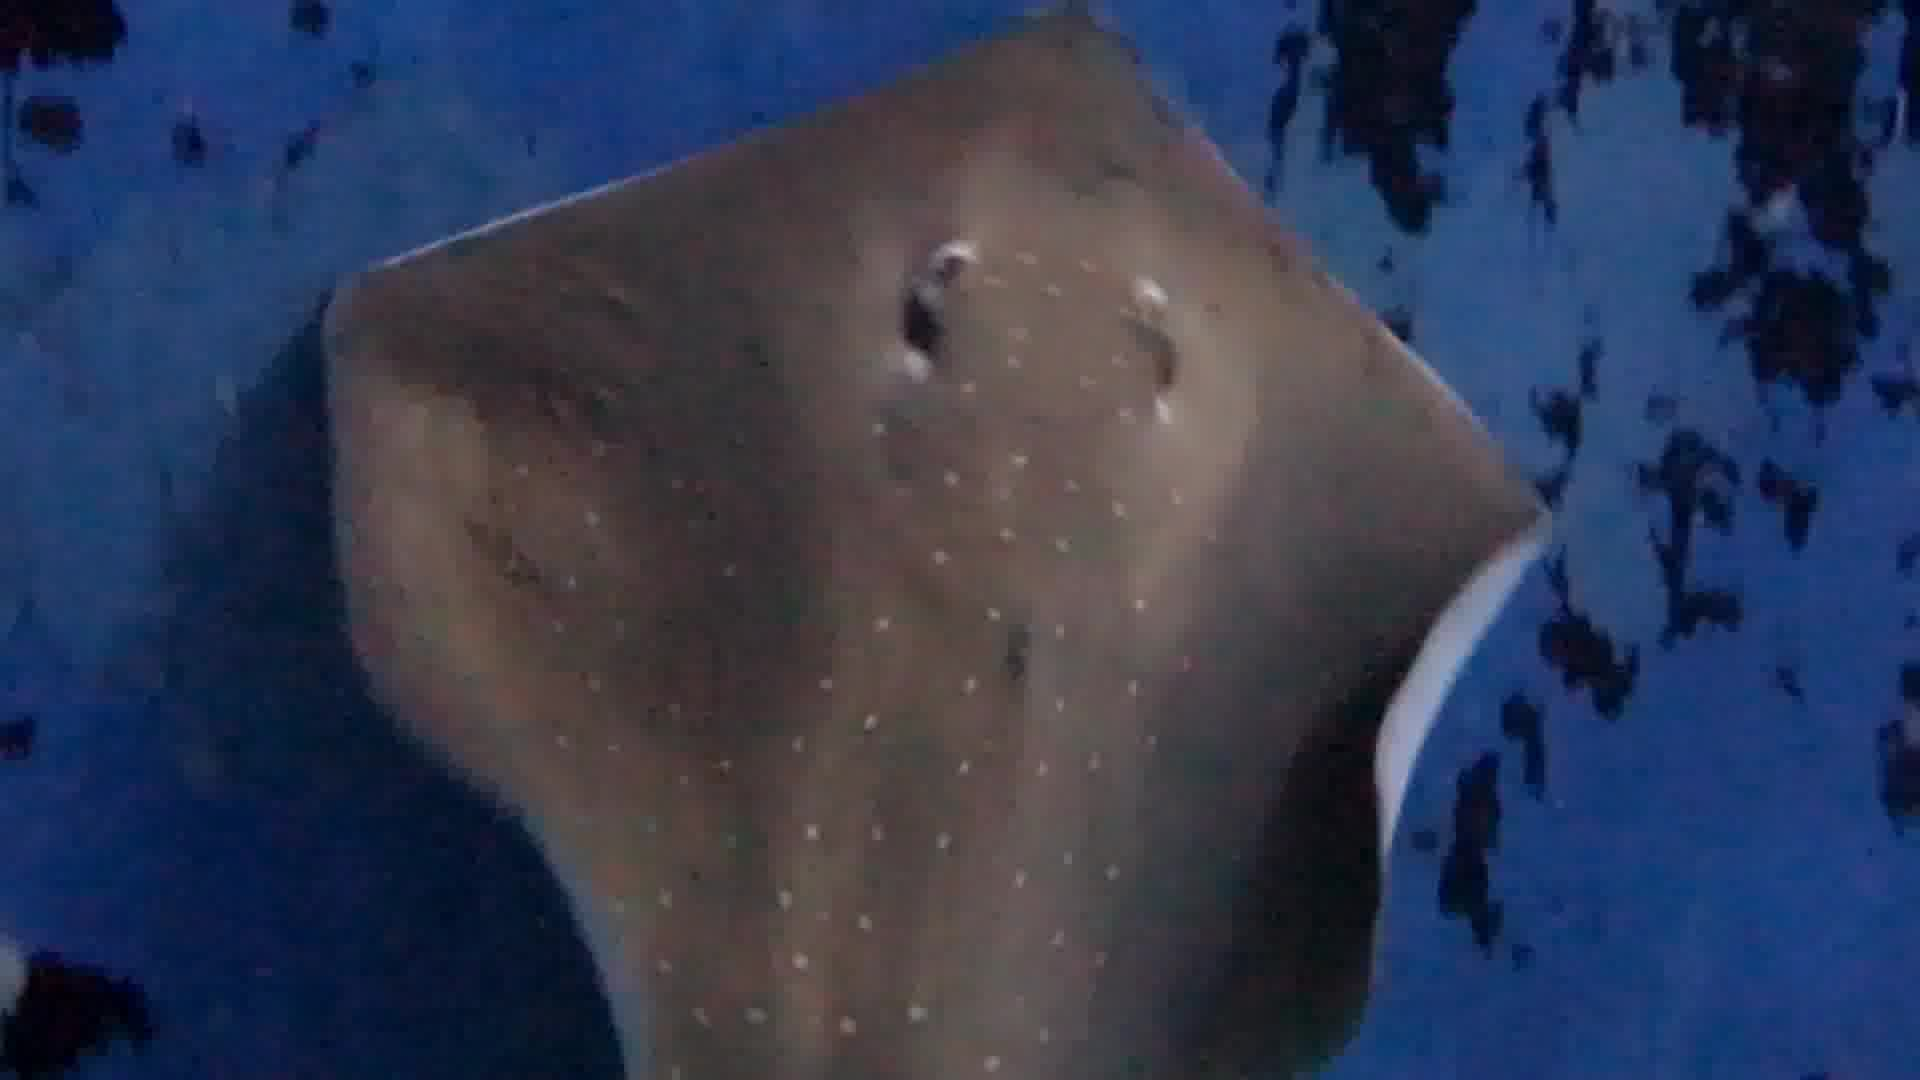Himantura gerrardi: (273, 18, 1581, 1080)
